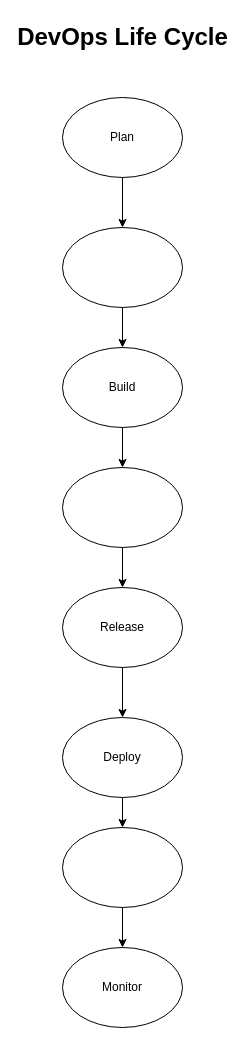
Some shapes in this 245 by 1045 pixel diagram are drawn without their labels. The shapes that lost their labels are listed below. From the top down, each one's centre as x and y in pixels, then its label:
At point (122, 267): "Develop".
At point (122, 507): "Test".
At point (122, 867): "Operate".
